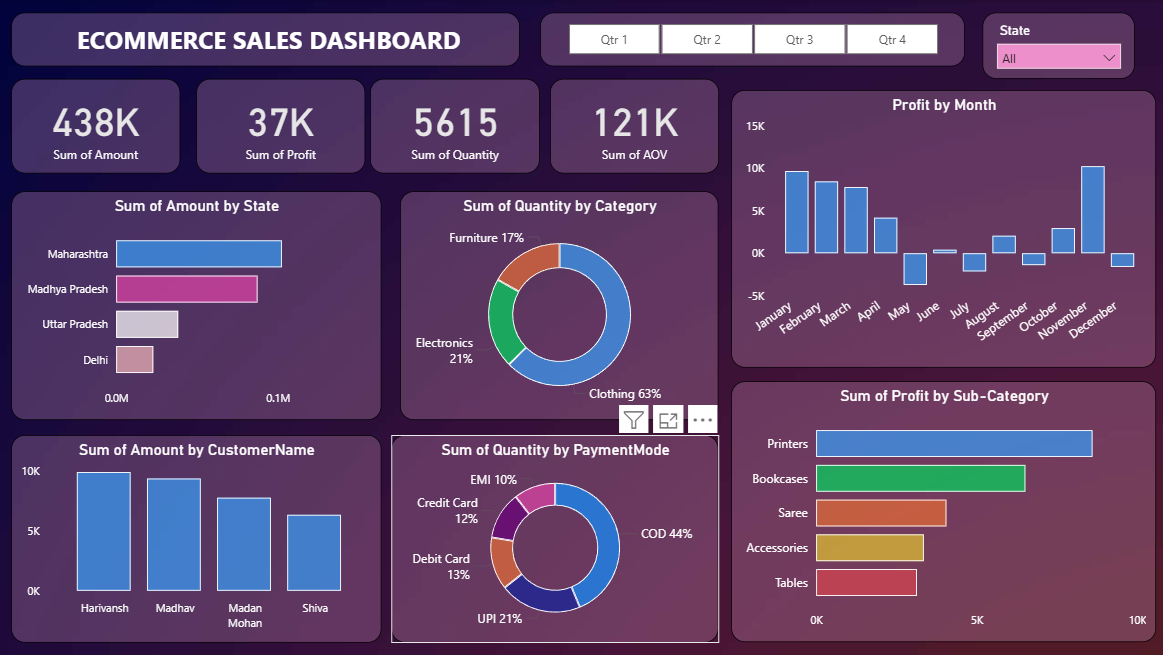

What the dashboard file says about the page in this screenshot:
{"tool":"powerbi","page":{"name":"Page 1","canvas":[1280,720],"ordinal":0},"visuals":[{"type":"textbox","box":[12.3,13.7,558.5,59],"z":0},{"type":"columnChart","title":"Profit by Month","fields":{"Y":["Details.Profit"],"Category":["Orders.Order Date.Variation.Date Hierarchy.Month"]},"box":[802.7,98.8,466.6,304.6],"z":1000},{"type":"barChart","fields":{"Category":["Details.Sub-Category"],"Y":["Details.Profit"]},"box":[802.7,418.5,466.6,286.8],"z":2000},{"type":"donutChart","fields":{"Category":["Details.Category"],"Y":["Details.Quantity"]},"box":[439.1,209.9,349.9,251.1],"z":3000},{"type":"donutChart","fields":{"Y":["Details.Quantity"],"Category":["Details.PaymentMode"]},"box":[429.5,477.5,359.5,227.8],"z":4000},{"type":"card","fields":{"Values":["Details.Amount"]},"box":[12.3,86.4,185.2,104.3],"z":5000},{"type":"card","fields":{"Values":["Details.Profit"]},"box":[215.4,86.4,185.2,104.3],"z":6000},{"type":"card","fields":{"Values":["Details.Quantity"]},"box":[406.2,86.4,186.6,104.3],"z":7000},{"type":"card","fields":{"Values":["Details.AOV"]},"box":[603.8,86.4,185.2,104.3],"z":8000},{"type":"barChart","title":"Sum of Amount by State","fields":{"Y":["Details.Amount"],"Category":["Orders.State"]},"box":[12.3,209.9,406.2,251.1],"z":9000},{"type":"columnChart","fields":{"Category":["Orders.CustomerName"],"Y":["Details.Amount"]},"box":[12.3,477.5,406.2,227.8],"z":10000},{"type":"slicer","fields":{"Values":["Orders.Order Date.Variation.Date Hierarchy.Quarter"]},"box":[592.8,13.7,466.6,59],"z":11000},{"type":"slicer","fields":{"Values":["Orders.State"]},"box":[1078.6,13.7,167.4,72.7],"z":12000}]}

Visuals, with their boxes in screenshot pixels (x1, y1, x2, y2), scaled from the page's 1280x720 canvas onto the 1163x655 screenshot:
textbox: Rect(11, 12, 519, 66)
"Profit by Month" columnChart: Rect(729, 90, 1153, 367)
barChart - Details.Sub-Category x Details.Profit: Rect(729, 381, 1153, 642)
donutChart - Details.Category x Details.Quantity: Rect(399, 191, 717, 419)
donutChart - Details.Quantity x Details.PaymentMode: Rect(390, 434, 717, 642)
card - Details.Amount: Rect(11, 79, 179, 173)
card - Details.Profit: Rect(196, 79, 364, 173)
card - Details.Quantity: Rect(369, 79, 539, 173)
card - Details.AOV: Rect(549, 79, 717, 173)
"Sum of Amount by State" barChart: Rect(11, 191, 380, 419)
columnChart - Orders.CustomerName x Details.Amount: Rect(11, 434, 380, 642)
slicer - Orders.Order Date.Variation.Date Hierarchy.Quarter: Rect(539, 12, 963, 66)
slicer - Orders.State: Rect(980, 12, 1132, 79)
